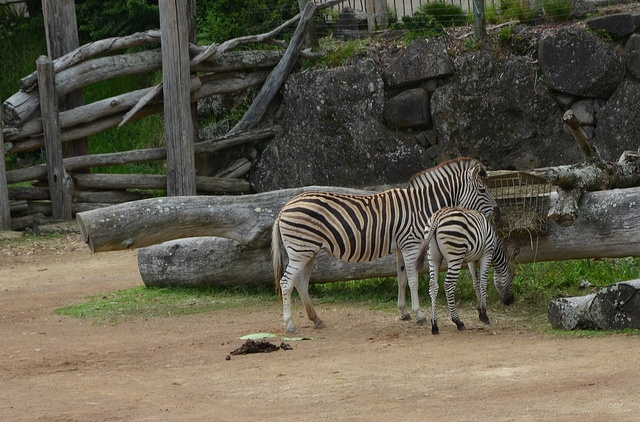zebra: (270, 155, 498, 329), (418, 205, 518, 335)
